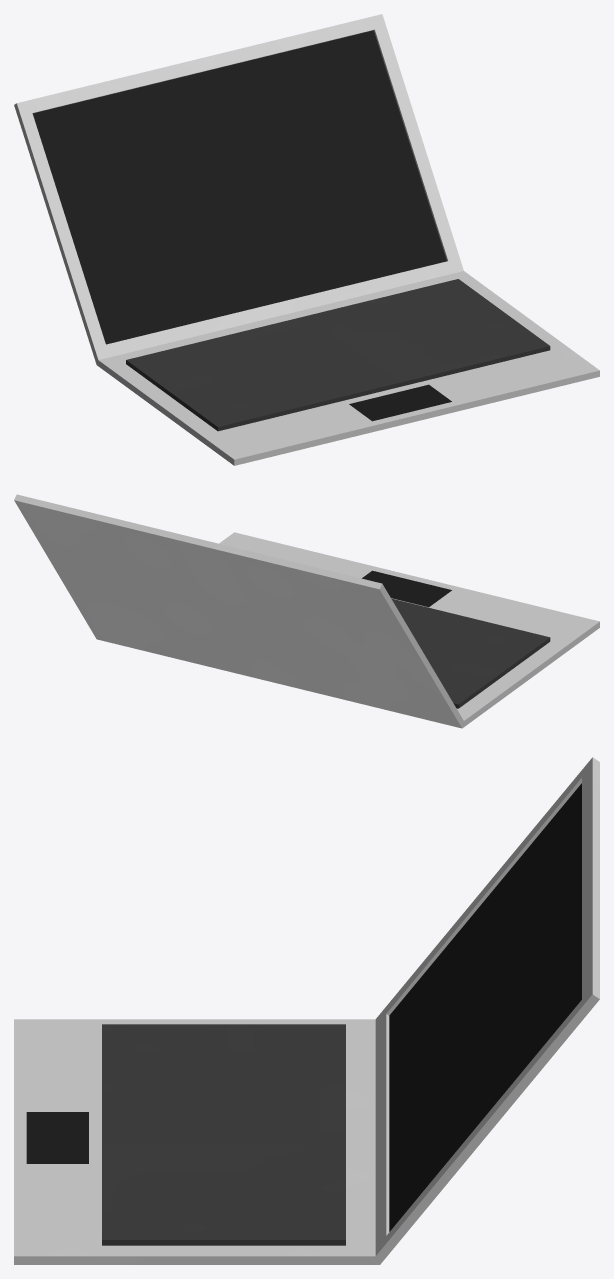
File: Laptop_03.fbx
3 renders of one model, top to bottom at view 1: azimuth 30°, elevation 25°; view 2: azimuth 150°, elevation 25°; view 3: azimuth 270°, elevation 25°, orthographic. The views are drawn at different scales.
Parts seen in each view (by area): view 1: Laptop_03; view 2: Laptop_03; view 3: Laptop_03.
Boxes of the visible parts, bbox=[...] form: Laptop_03: bbox=[14, 14, 599, 465]; Laptop_03: bbox=[14, 494, 599, 728]; Laptop_03: bbox=[14, 757, 599, 1264].
Size of the model in its own units: 0.6087 by 0.3237 by 0.6355.
